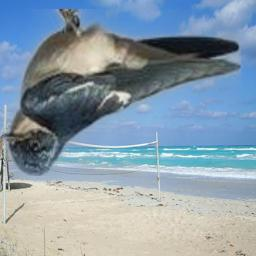Swallow: (3, 9, 241, 176)
